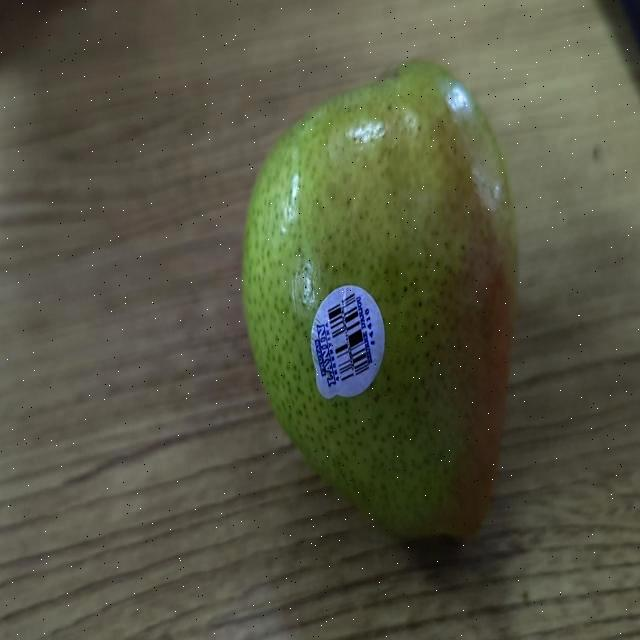Pir: (238, 49, 522, 548)
